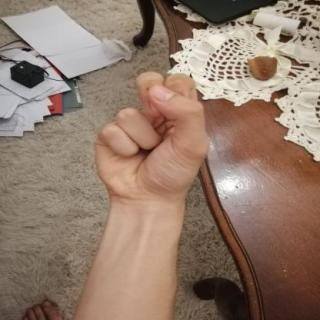QAAF: (80, 64, 218, 210)
